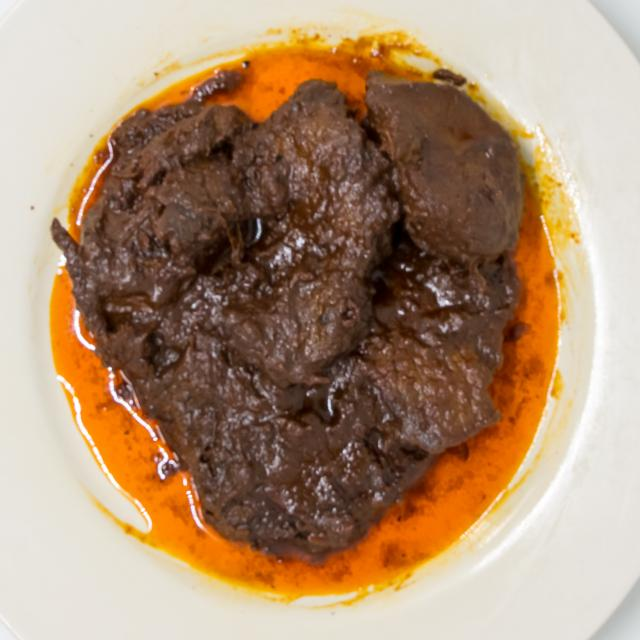Rendang: (51, 42, 537, 567)
